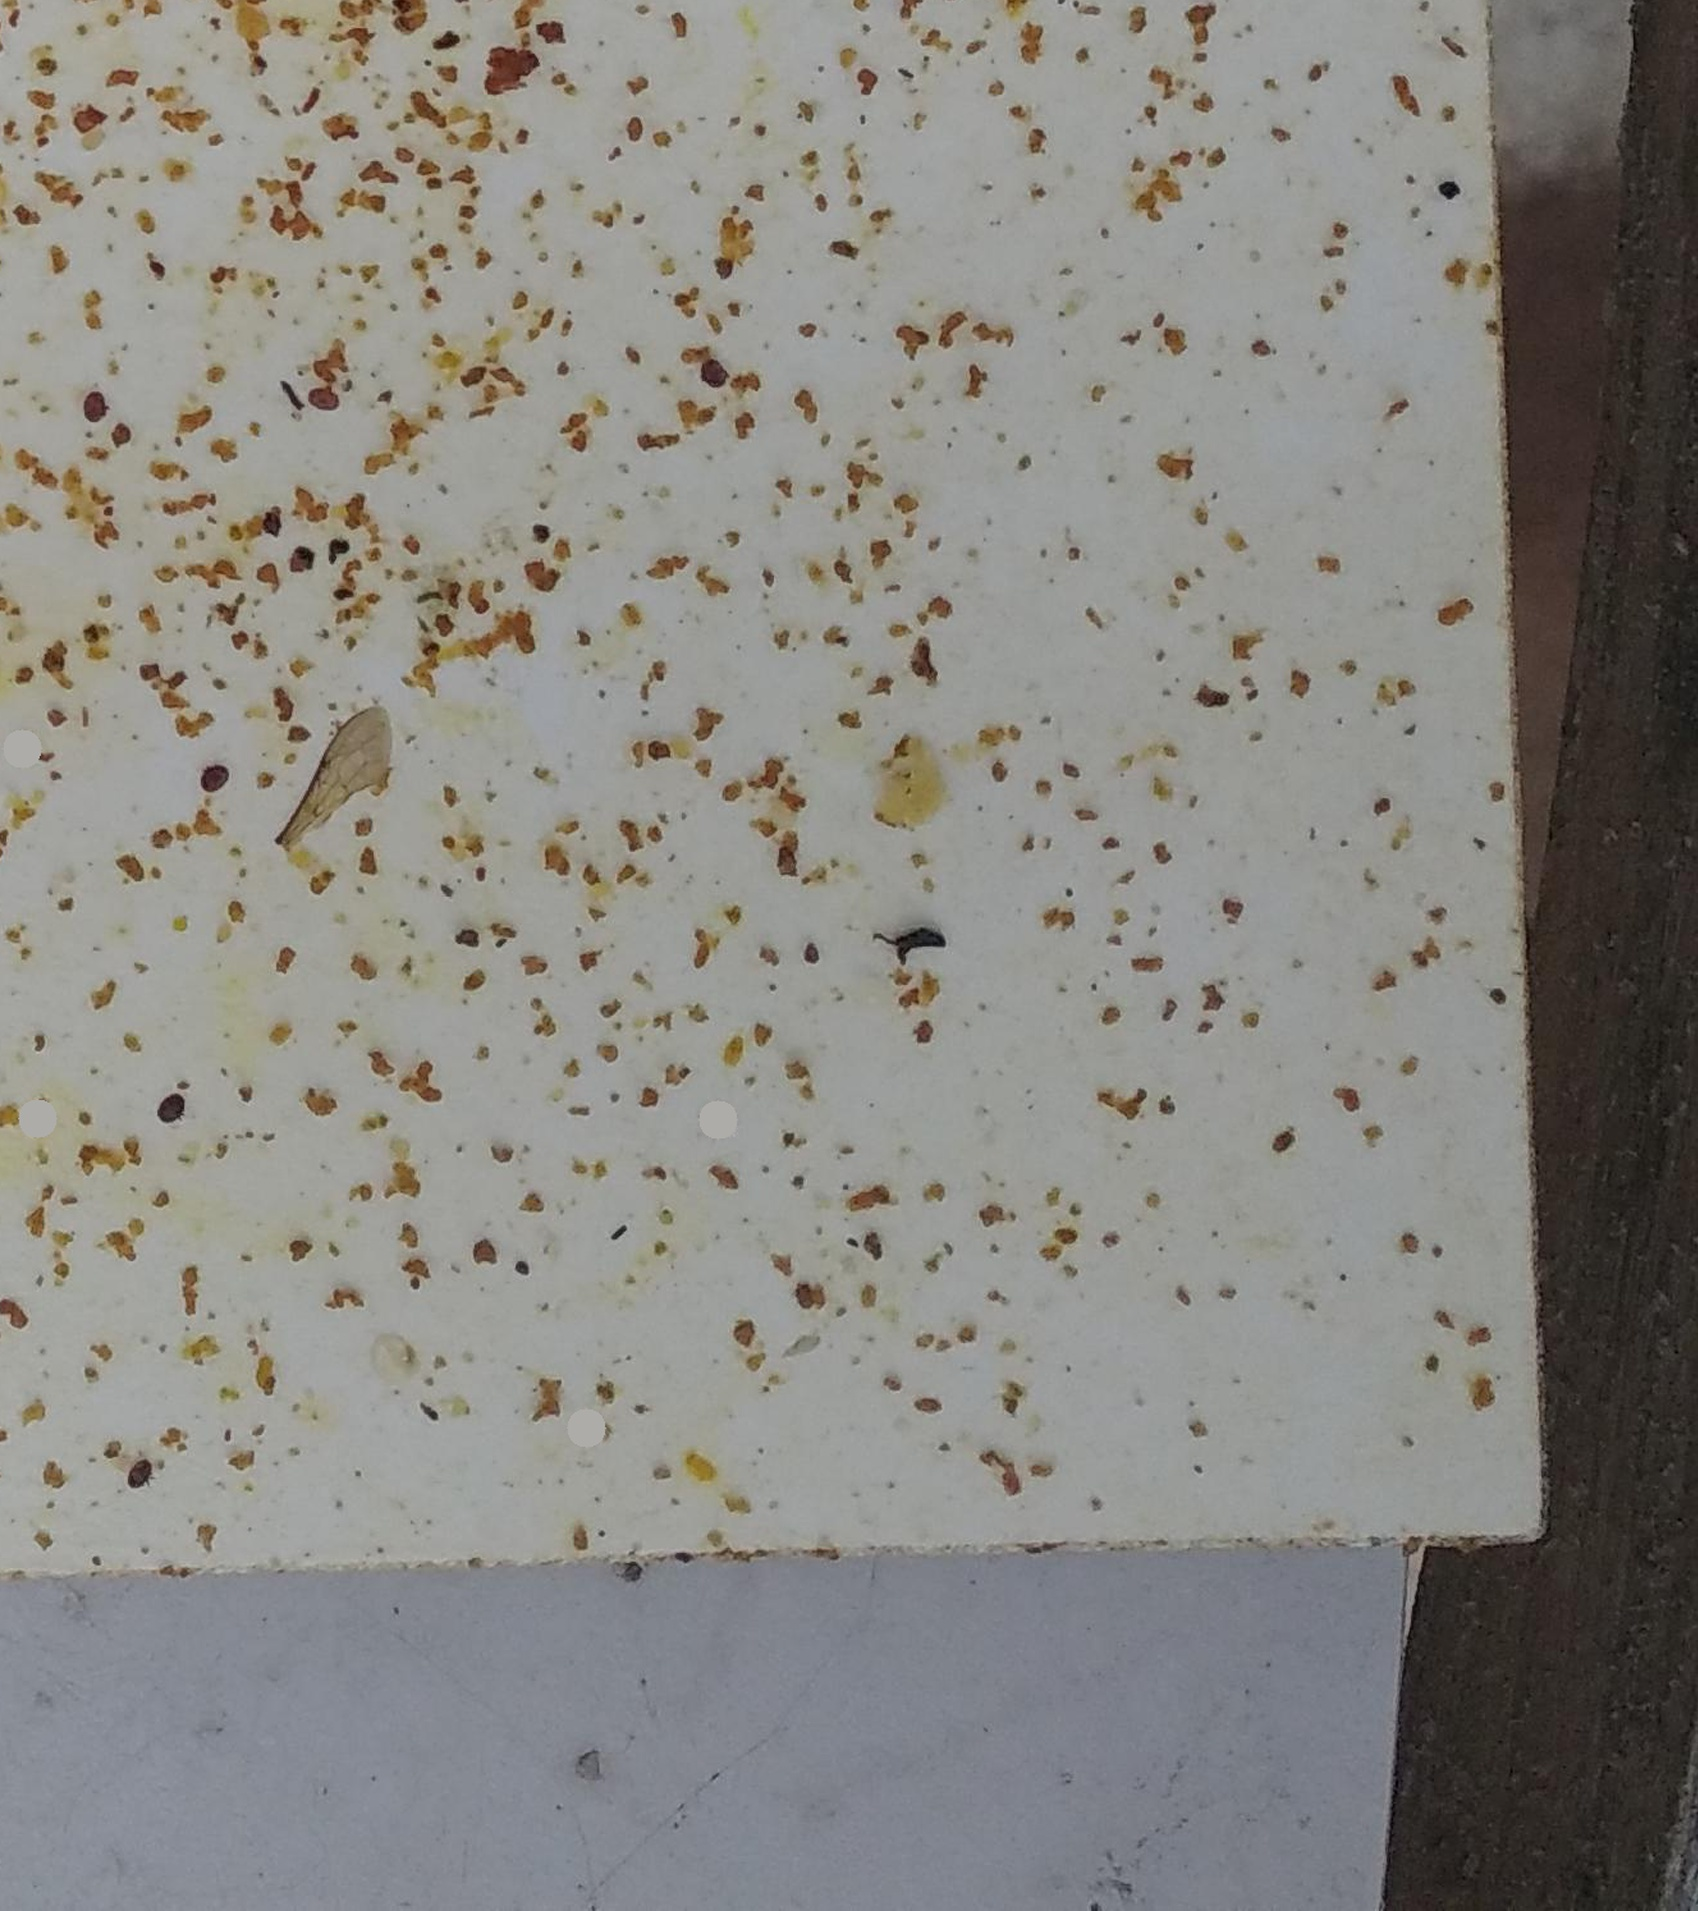Varroa: (200, 769, 228, 798), (157, 1092, 185, 1118), (308, 387, 336, 413), (80, 393, 107, 418), (701, 361, 728, 385), (121, 1460, 148, 1485)
